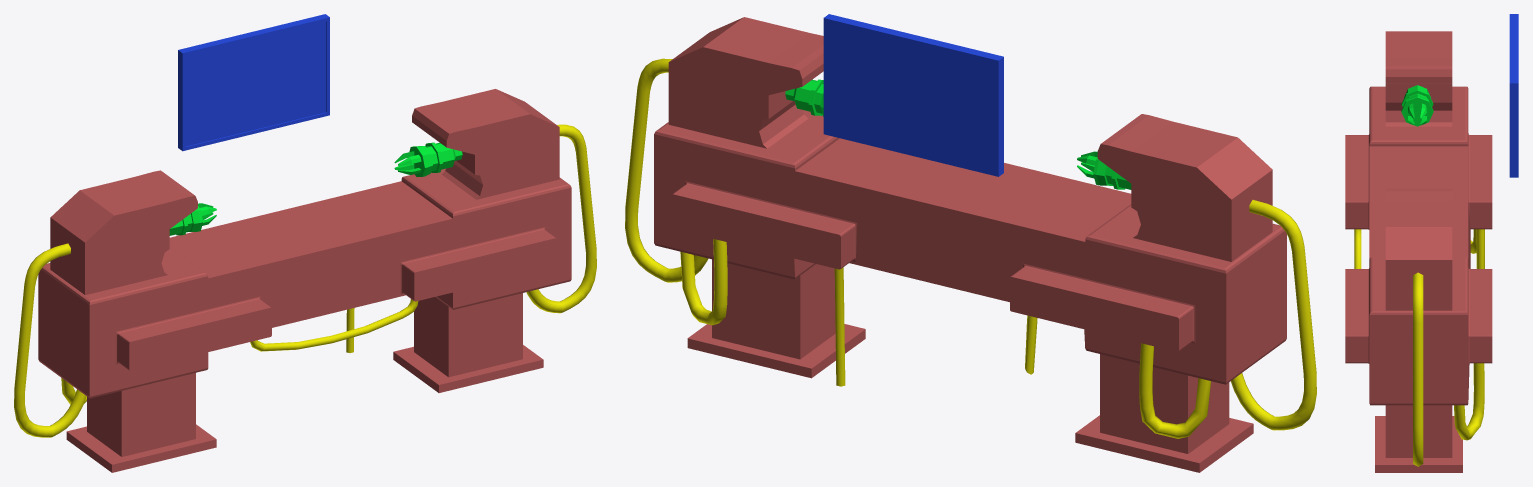
Rendered from maquinaMejora.fbx.
3 views of the same model, side by side, from view 1: azimuth 30°, elevation 25°; view 2: azimuth 150°, elevation 25°; view 3: azimuth 270°, elevation 25° (orthographic). The views are drawn at different scales.
Visible parts, largest first — view 1: Box001, Box002, Line003, Cylinder002, Line001; view 2: Box001, Box002, Line003, Line004, Cylinder002, Line002; view 3: Box001, Line003, Box002, Line004, Cylinder002, Line002, Line001.
Boxes of the visible parts, x1,y1,x2,y2 form: Box001: [38, 89, 571, 472]; Box002: [178, 14, 329, 151]; Line003: [14, 124, 596, 437]; Cylinder002: [169, 142, 462, 235]; Line001: [250, 299, 418, 351]; Box001: [654, 17, 1286, 472]; Box002: [823, 14, 1003, 176]; Line003: [625, 58, 1316, 430]; Line004: [680, 239, 1211, 438]; Cylinder002: [785, 79, 1131, 189]; Line002: [834, 267, 1037, 386]; Box001: [1345, 31, 1492, 472]; Line003: [1413, 272, 1423, 466]; Box002: [1509, 14, 1518, 177]; Line004: [1454, 229, 1484, 440]; Cylinder002: [1401, 85, 1433, 126]; Line002: [1476, 229, 1484, 268]; Line001: [1354, 229, 1361, 268].
Size of the model in its own units: 480 by 263 by 128.
